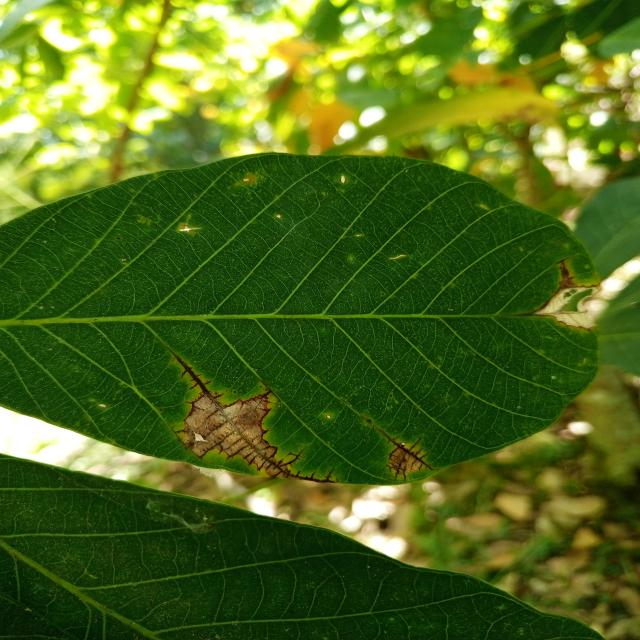Corynespora: (167, 347, 338, 484), (536, 286, 600, 330), (386, 436, 436, 481), (556, 257, 577, 290)
